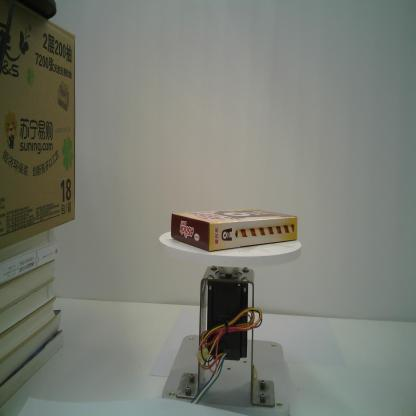Dessert: (169, 206, 299, 252)
